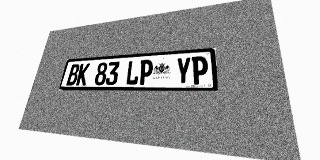3: (105, 61, 120, 85)
8: (94, 62, 109, 85)
B: (66, 64, 80, 85)
K: (76, 63, 90, 85)
L: (125, 60, 140, 85)
P: (192, 56, 208, 84), (138, 59, 154, 85)
Y: (175, 57, 191, 85)
